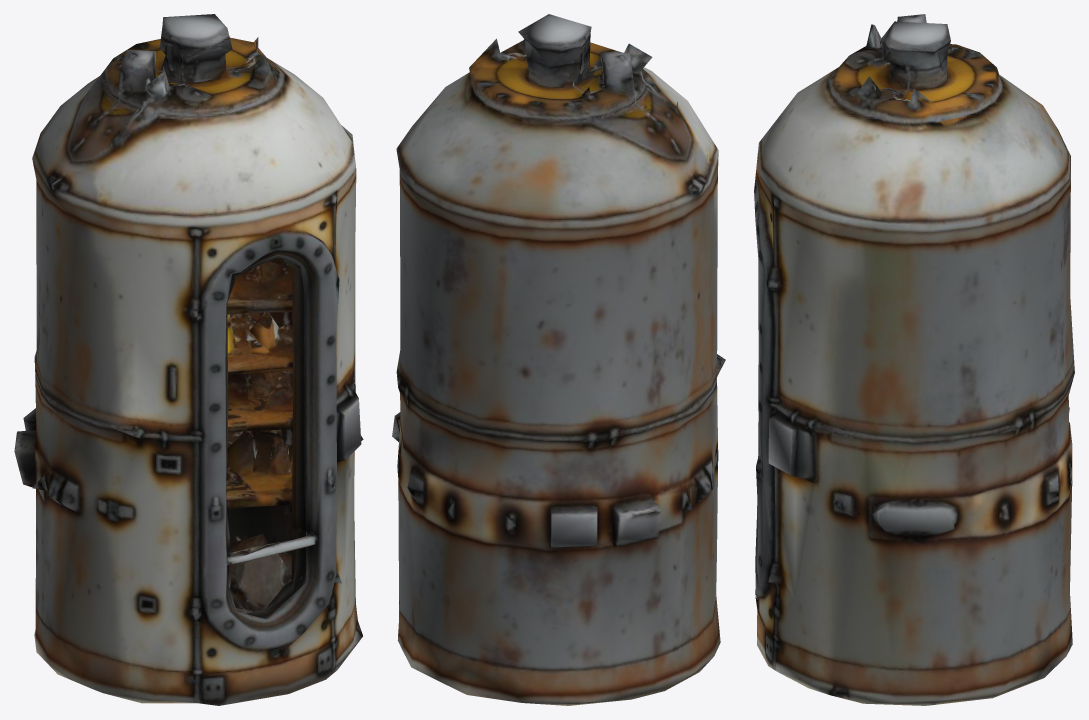
File: old_damaged_sci_fi_st_1203062333_texture.fbx
The picture shows the model from 3 angles, left to right: view 1: azimuth 30°, elevation 25°; view 2: azimuth 150°, elevation 25°; view 3: azimuth 270°, elevation 25°; orthographic projection.
Parts seen in each view (by area): view 1: Mesh1.0; view 2: Mesh1.0; view 3: Mesh1.0.
Part boxes in pixels (x1,y1,x2,y2): Mesh1.0: (14, 14, 363, 705); Mesh1.0: (392, 14, 725, 705); Mesh1.0: (754, 14, 1074, 705).
Size of the model in its own units: 96.97 by 192 by 91.76.
1 material, 1 textured.
